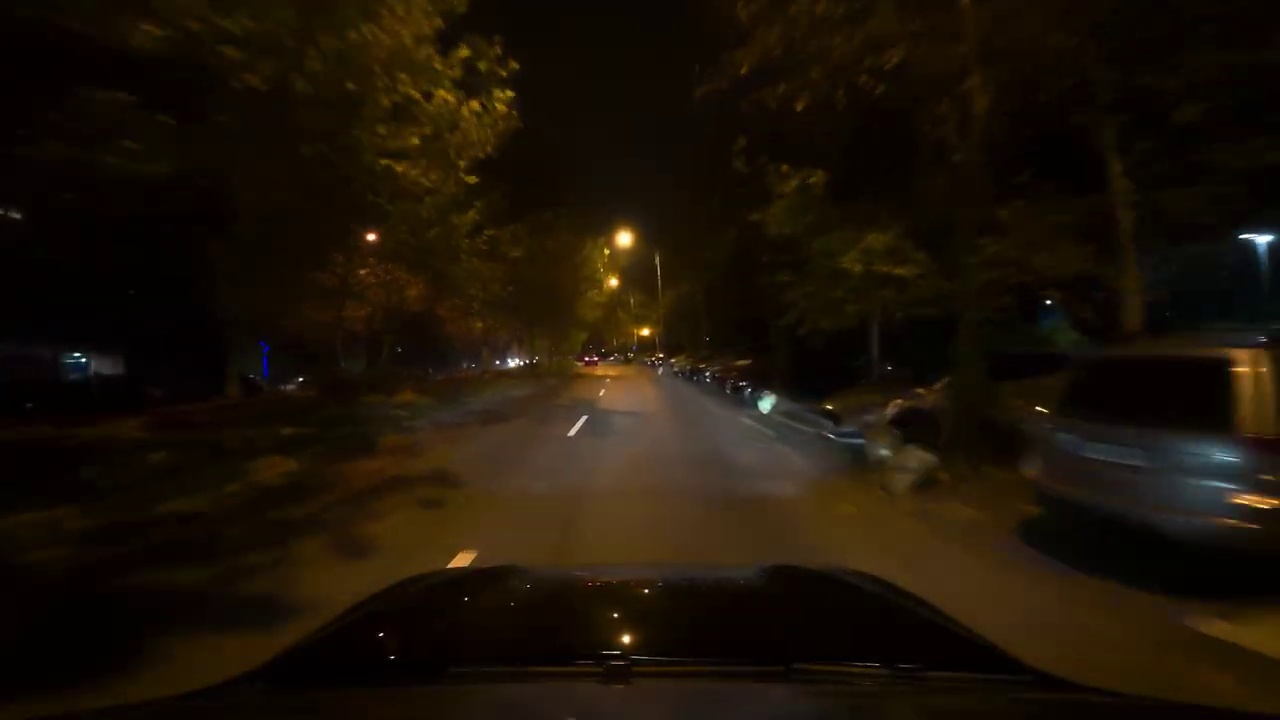acesa: (609, 225, 638, 253)
